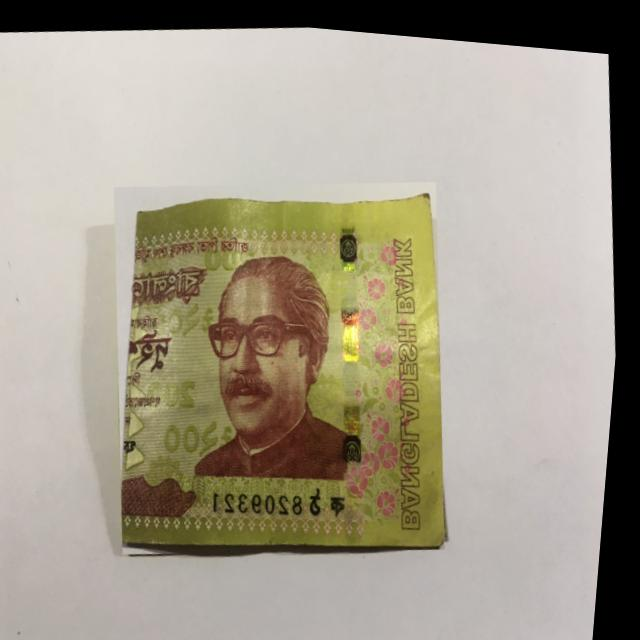Taka: (93, 150, 476, 573)
